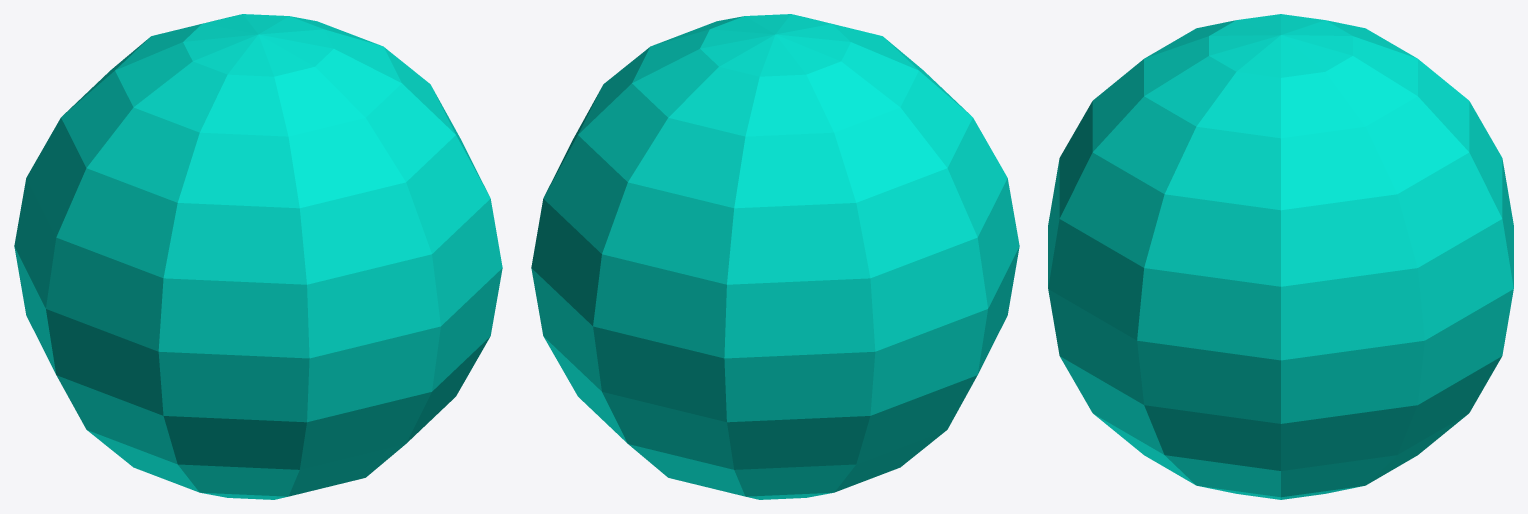
The model's file is WM_Marble.fbx.
3 views of the same model, side by side, from view 1: azimuth 30°, elevation 25°; view 2: azimuth 150°, elevation 25°; view 3: azimuth 270°, elevation 25° (orthographic).
Visible parts, largest first — view 1: pSphere1; view 2: pSphere1; view 3: pSphere1.
Part boxes in pixels (left/top/right/bottom): pSphere1: left=14, top=14, right=502, bottom=499; pSphere1: left=531, top=14, right=1019, bottom=499; pSphere1: left=1048, top=14, right=1513, bottom=499.
Bounding box in the file's own units: 0.58 × 0.58 × 0.5516.
